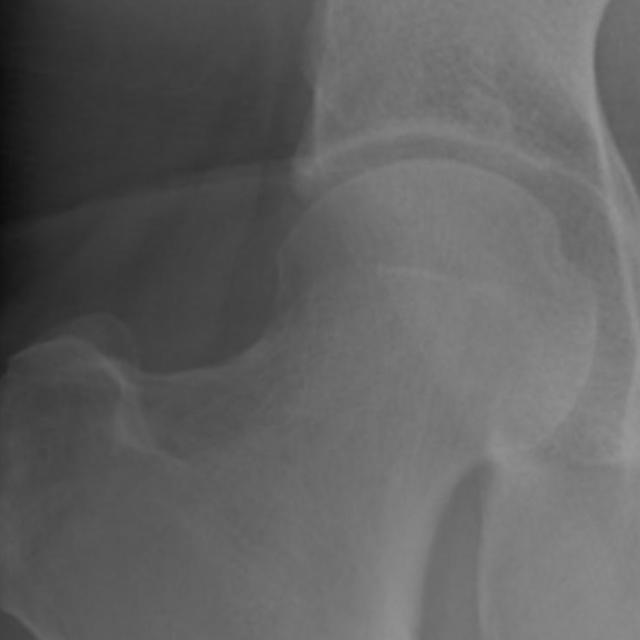Fitted_femural_head: (326, 159, 432, 326)
